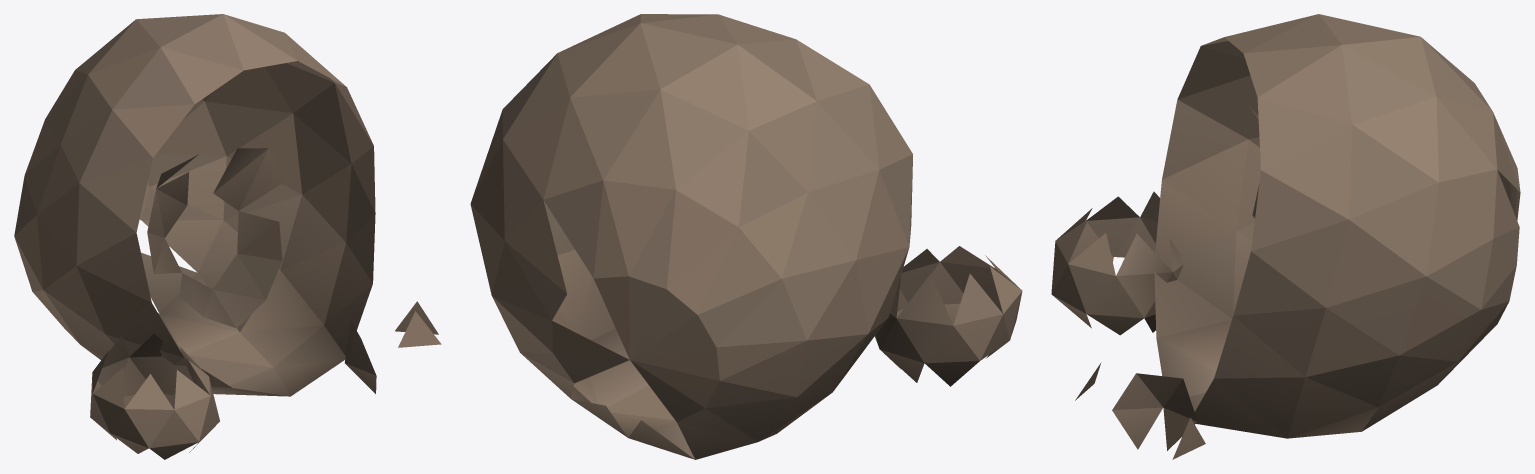
Rendered from geode.lod.glb.
The picture shows the model from 3 angles, left to right: view 1: azimuth 30°, elevation 25°; view 2: azimuth 150°, elevation 25°; view 3: azimuth 270°, elevation 25°; orthographic projection. The views are drawn at different scales.
Parts seen in each view (by area): view 1: geode.001; view 2: geode.001; view 3: geode.001.
Boxes of the visible parts, x1,y1,x2,y2 form: geode.001: [14, 14, 441, 459]; geode.001: [470, 14, 1022, 459]; geode.001: [1051, 14, 1520, 459].
Size of the model in its own units: 1.5 by 1.32 by 1.5.
